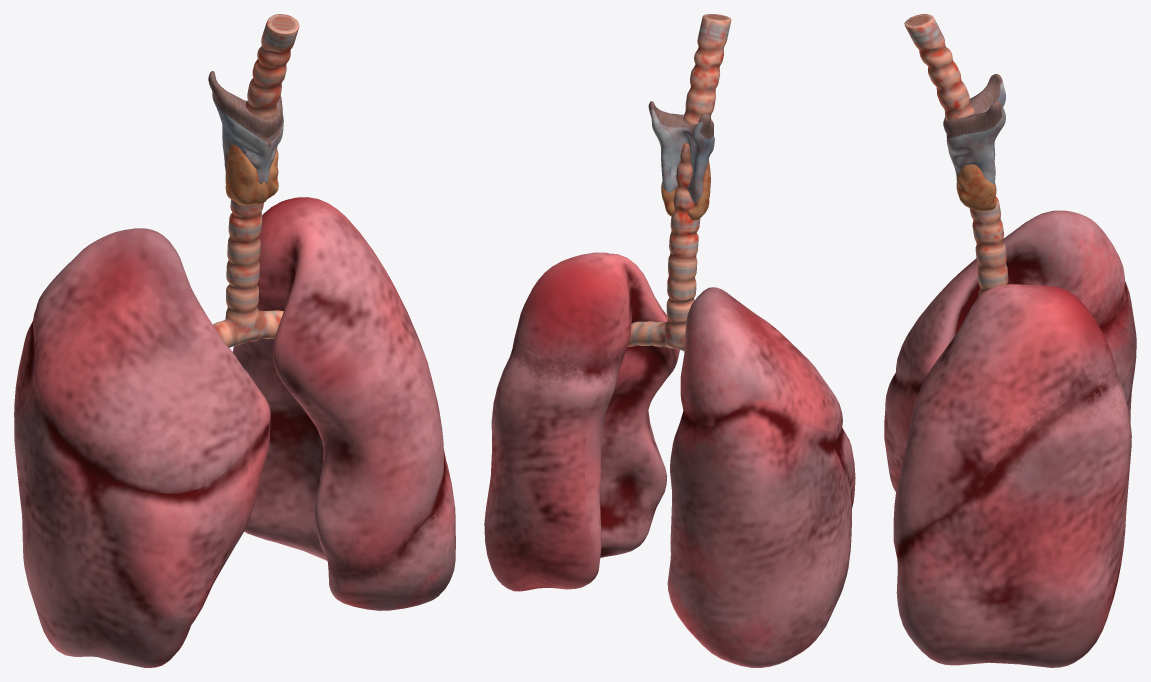
File: lungs.glb
3 renders of one model, left to right at view 1: azimuth 30°, elevation 25°; view 2: azimuth 150°, elevation 25°; view 3: azimuth 270°, elevation 25°, orthographic. The views are drawn at different scales.
Visible parts, largest first — view 1: thairoid01:low_part02_Group6344:Group24638_thairoid01:lungh_, thairoid01:low_part01_Group6344:Group18522_thairoid01:lungh_; view 2: thairoid01:low_part02_Group6344:Group24638_thairoid01:lungh_, thairoid01:low_part01_Group6344:Group18522_thairoid01:lungh_; view 3: thairoid01:low_part02_Group6344:Group24638_thairoid01:lungh_, thairoid01:low_part01_Group6344:Group18522_thairoid01:lungh_.
Part boxes in pixels (left/top/right/bottom): thairoid01:low_part02_Group6344:Group24638_thairoid01:lungh_: left=14, top=197, right=455, bottom=667; thairoid01:low_part01_Group6344:Group18522_thairoid01:lungh_: left=208, top=14, right=299, bottom=347; thairoid01:low_part02_Group6344:Group24638_thairoid01:lungh_: left=484, top=252, right=855, bottom=667; thairoid01:low_part01_Group6344:Group18522_thairoid01:lungh_: left=627, top=14, right=731, bottom=351; thairoid01:low_part02_Group6344:Group24638_thairoid01:lungh_: left=884, top=210, right=1136, bottom=667; thairoid01:low_part01_Group6344:Group18522_thairoid01:lungh_: left=904, top=14, right=1008, bottom=296.
Size of the model in its own units: 0.2232 by 0.3687 by 0.1423.
Materials: 2 (2 with a texture image).
